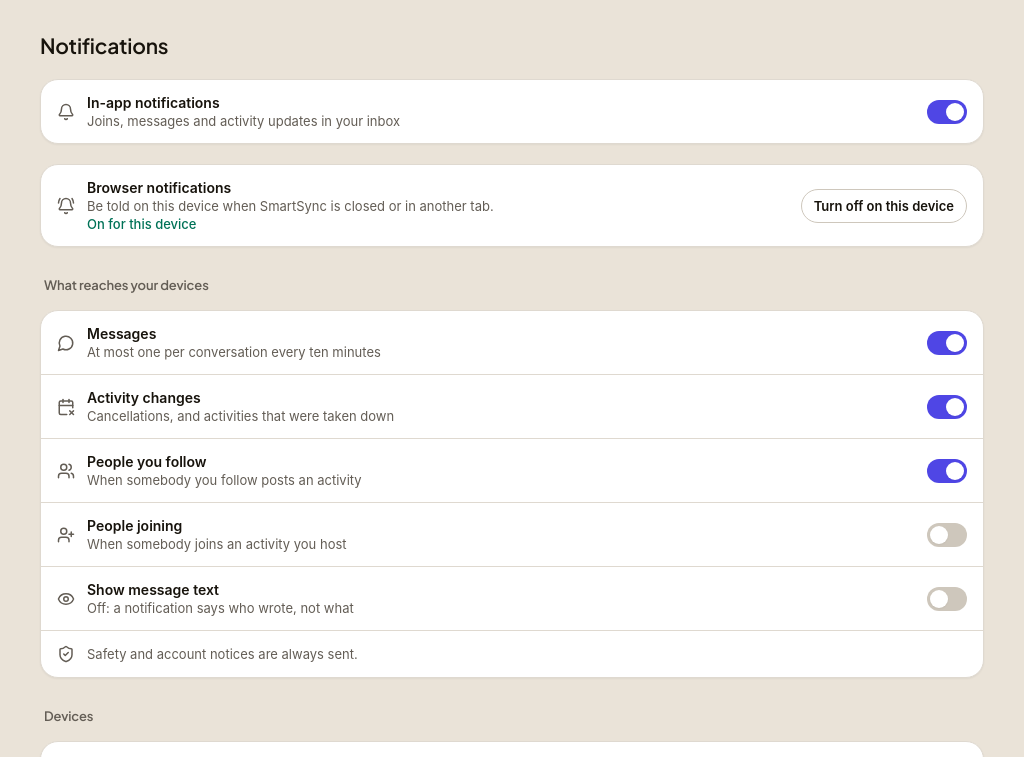
Test: this browser › turning off takes the registration back
The width and height of the screenshot is (1024, 757).
Click the button "Turn off on this device" at (884, 206), box [801,189,967,223]
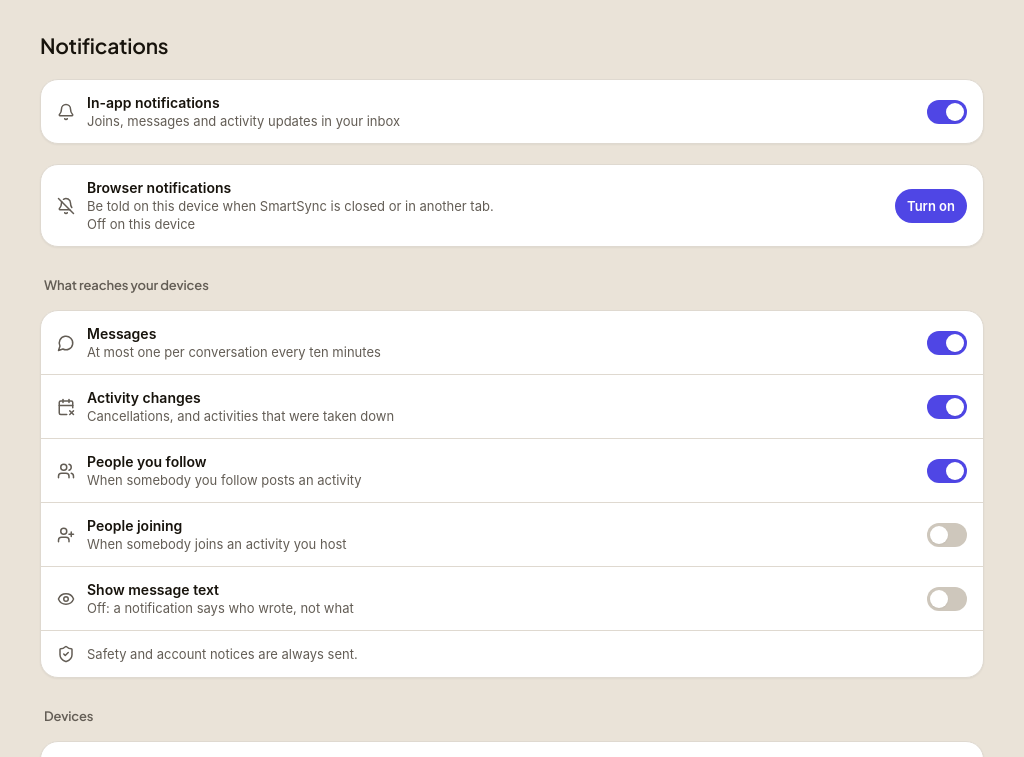
Result: the text "Off on this device" is shown at [87,216,195,232]
